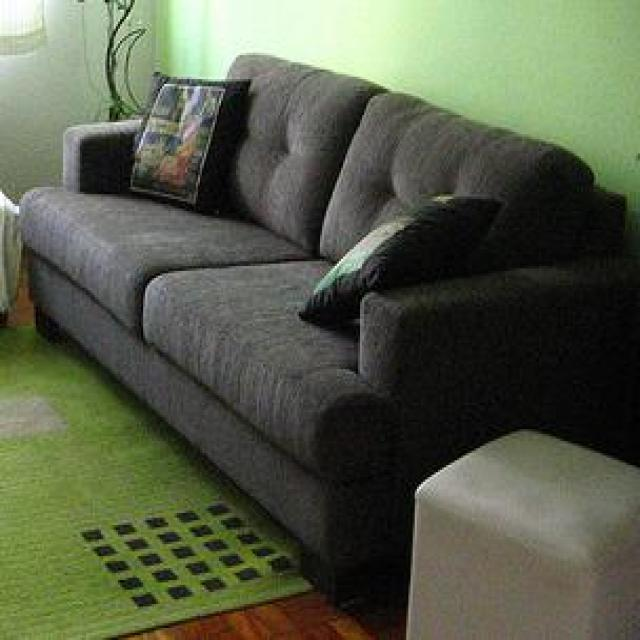sofa: (22, 50, 638, 607)
